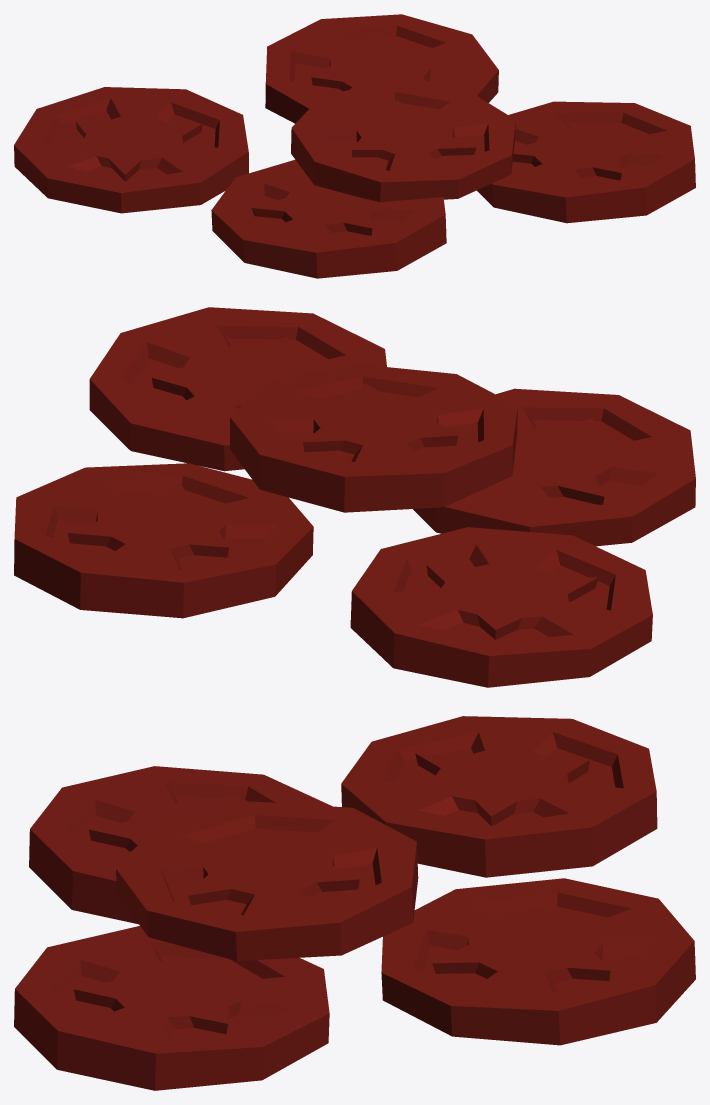
The model's file is tomato-slice.glb.
3 views of the same model, one above another, from view 1: azimuth 30°, elevation 25°; view 2: azimuth 150°, elevation 25°; view 3: azimuth 270°, elevation 25° (orthographic). The views are drawn at different scales.
Visible parts, largest first — view 1: Tomato_Slice; view 2: Tomato_Slice; view 3: Tomato_Slice.
Part boxes in pixels (x1,y1,x2,y2): Tomato_Slice: [14, 14, 695, 278]; Tomato_Slice: [14, 307, 695, 687]; Tomato_Slice: [14, 716, 695, 1090].
Size of the model in its own units: 80.57 by 7.65 by 66.86.
